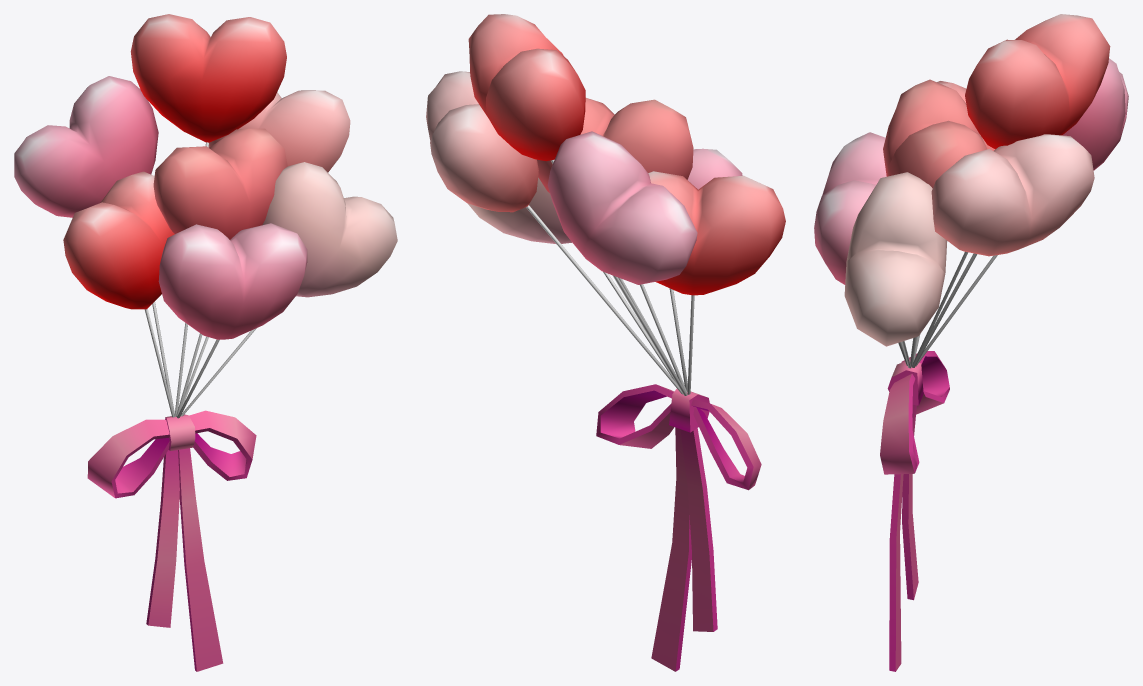
File: Balloon.FBX
3 views of the same model, side by side, from view 1: azimuth 30°, elevation 25°; view 2: azimuth 150°, elevation 25°; view 3: azimuth 270°, elevation 25° (orthographic). The views are drawn at different scales.
Parts seen in each view (by area): view 1: valentines_bolloon_001; view 2: valentines_bolloon_001; view 3: valentines_bolloon_001.
Part boxes in pixels (x1,y1,x2,y2): valentines_bolloon_001: (14,14,397,671); valentines_bolloon_001: (426,14,785,671); valentines_bolloon_001: (814,14,1128,671).
Bounding box in the file's own units: 75.03 × 140 × 59.18.
